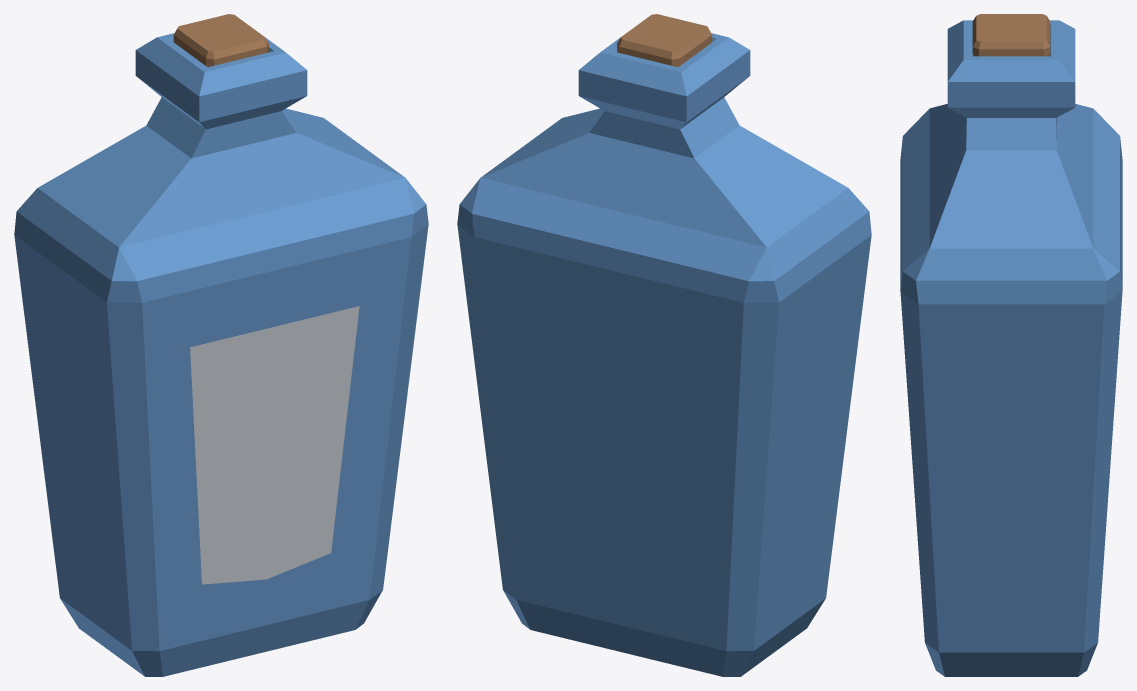
The model's file is Blue_Potion_10(Label).fbx.
3 renders of one model, left to right at view 1: azimuth 30°, elevation 25°; view 2: azimuth 150°, elevation 25°; view 3: azimuth 270°, elevation 25°, orthographic.
Parts seen in each view (by area): view 1: Blue_Potion_10(Label); view 2: Blue_Potion_10(Label); view 3: Blue_Potion_10(Label).
Part boxes in pixels (bbox=[...]): Blue_Potion_10(Label): bbox=[14, 14, 428, 676]; Blue_Potion_10(Label): bbox=[457, 14, 871, 676]; Blue_Potion_10(Label): bbox=[900, 14, 1122, 676].
Bounding box in the file's own units: 22.96 × 40.43 × 13.67.
